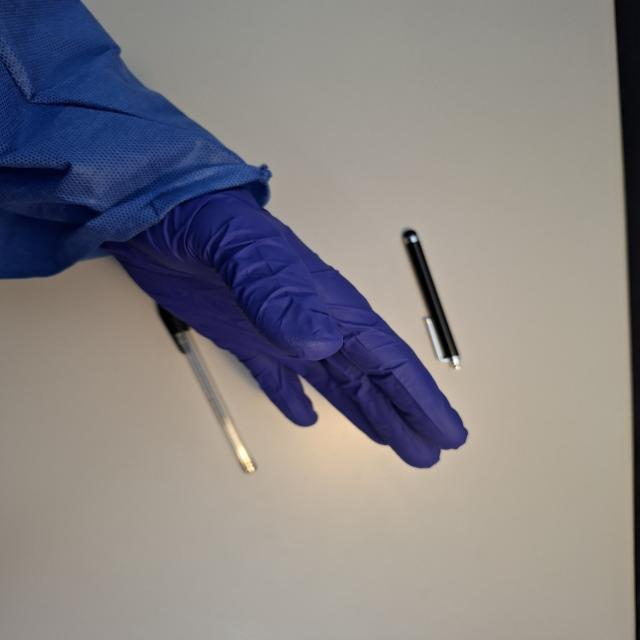glove_on: (97, 162, 473, 472)
